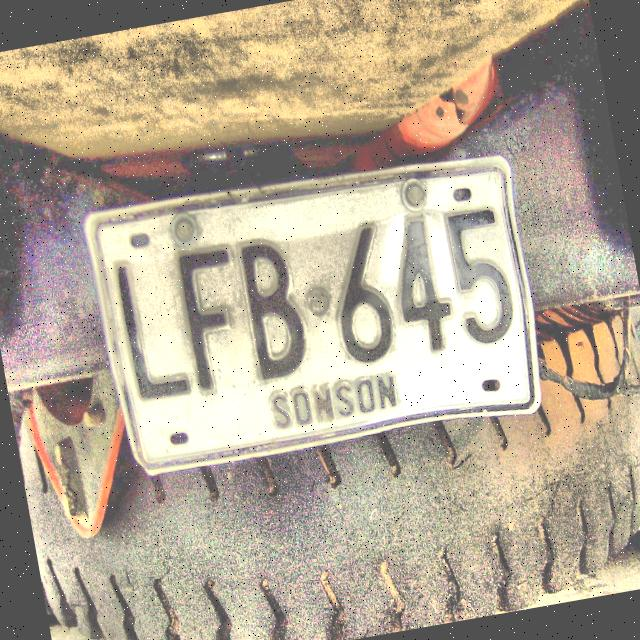4: (385, 205, 460, 357)
5: (440, 199, 524, 358)
6: (316, 218, 405, 366)
B: (234, 228, 312, 383)
F: (172, 237, 254, 394)
L: (109, 253, 192, 404)
